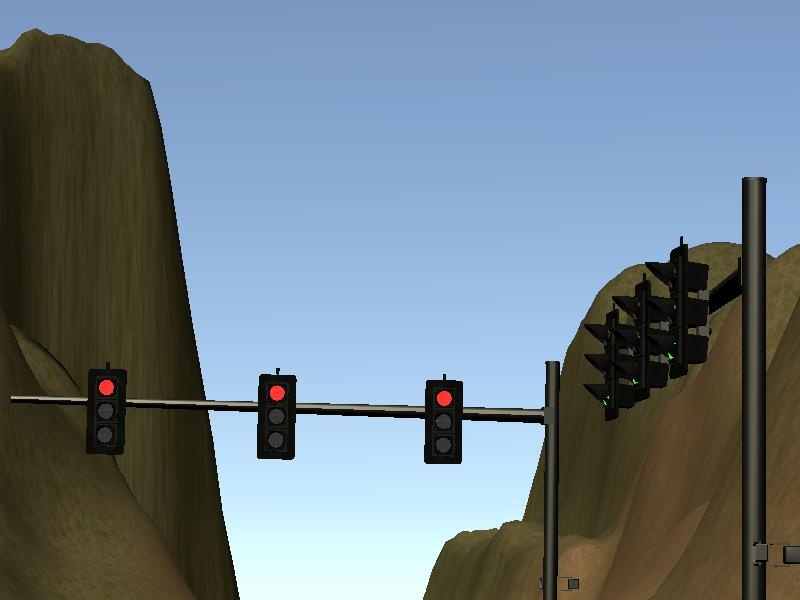red: (253, 367, 303, 468), (419, 373, 470, 469), (85, 362, 130, 456)
